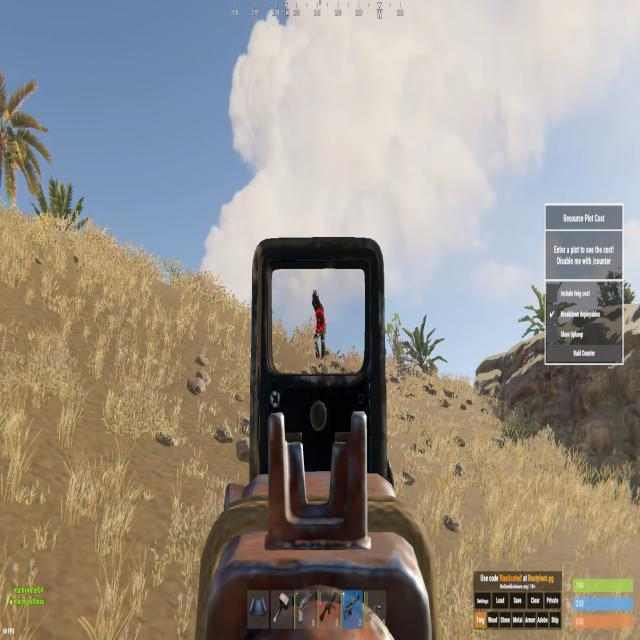Player: (310, 286, 326, 362)
